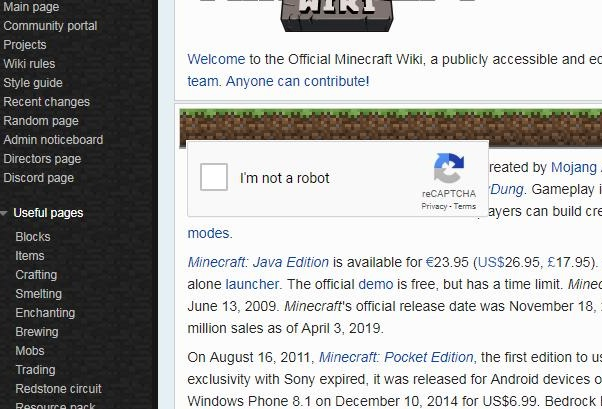captcha: (200, 163, 331, 191)
